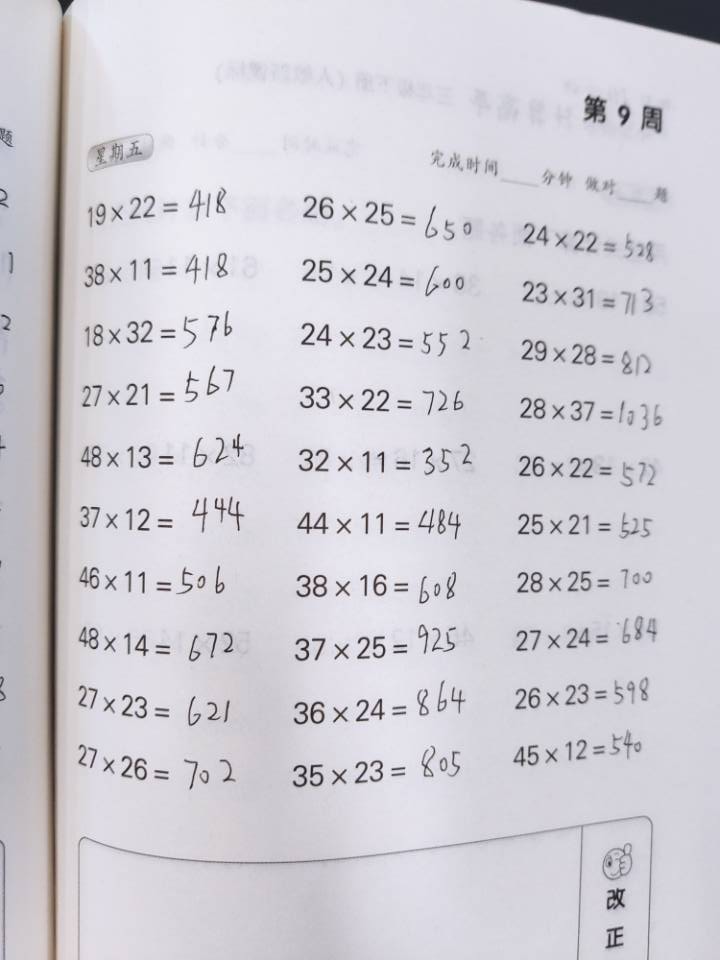equation: (548, 323, 601, 584), (312, 628, 368, 864), (460, 344, 509, 585), (534, 81, 588, 296), (131, 640, 182, 867), (509, 327, 554, 580), (326, 313, 368, 577), (408, 72, 458, 291), (555, 629, 598, 879), (368, 627, 413, 865), (509, 623, 550, 881), (268, 640, 316, 859), (419, 333, 462, 577), (450, 79, 497, 300), (496, 73, 541, 303), (226, 644, 272, 863), (236, 313, 275, 567), (144, 313, 182, 571), (192, 320, 229, 580), (181, 643, 223, 868), (376, 323, 413, 577), (418, 649, 459, 871), (289, 59, 326, 288), (373, 72, 410, 300), (284, 327, 318, 575), (202, 68, 239, 288), (466, 636, 501, 867), (250, 76, 286, 292), (337, 68, 371, 292), (166, 65, 196, 280)
